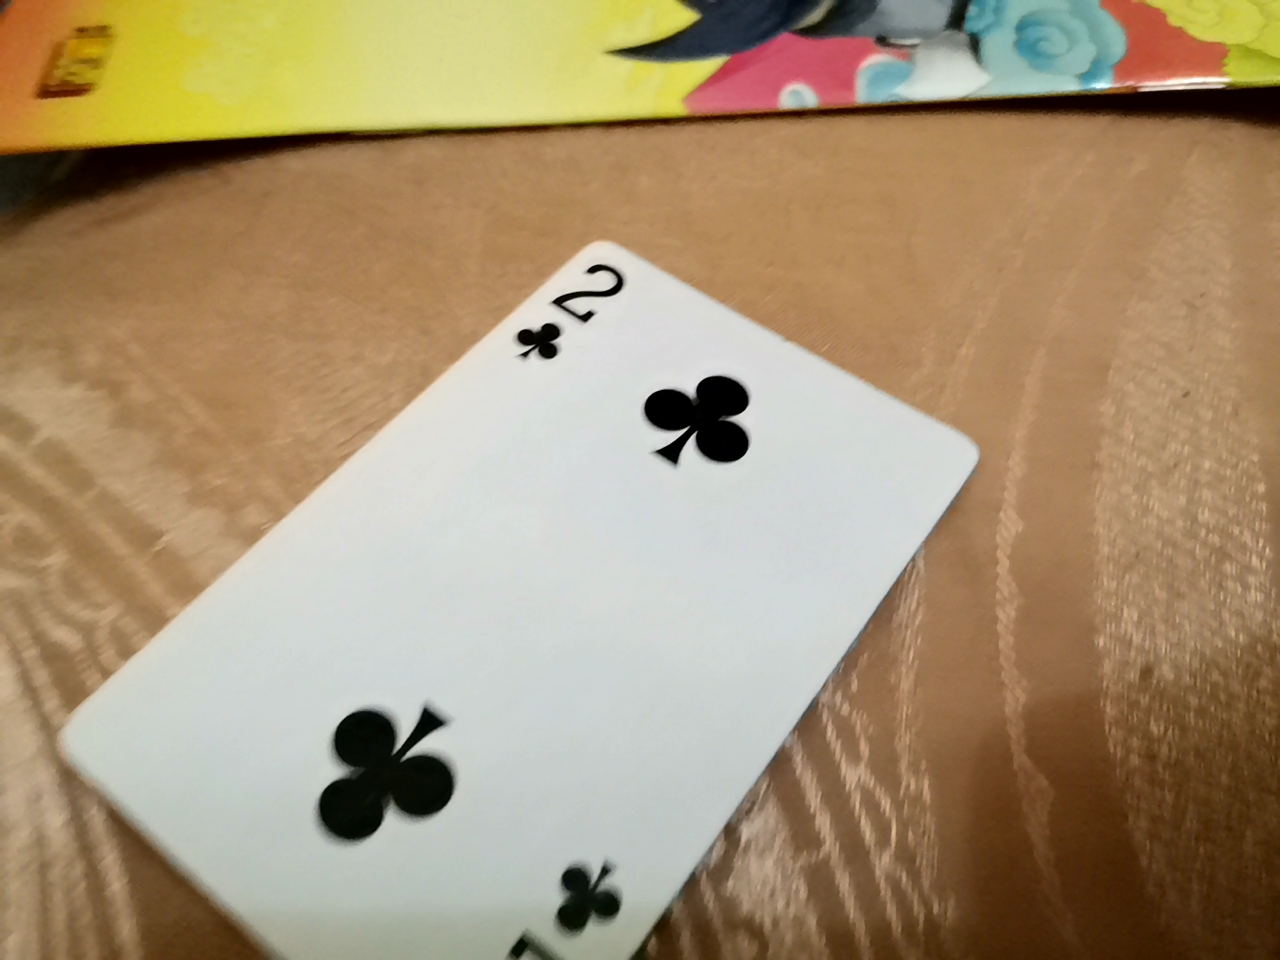mh 2: (12, 212, 979, 954)
